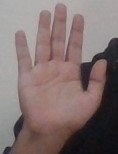Hello: (26, 69, 46, 111)
